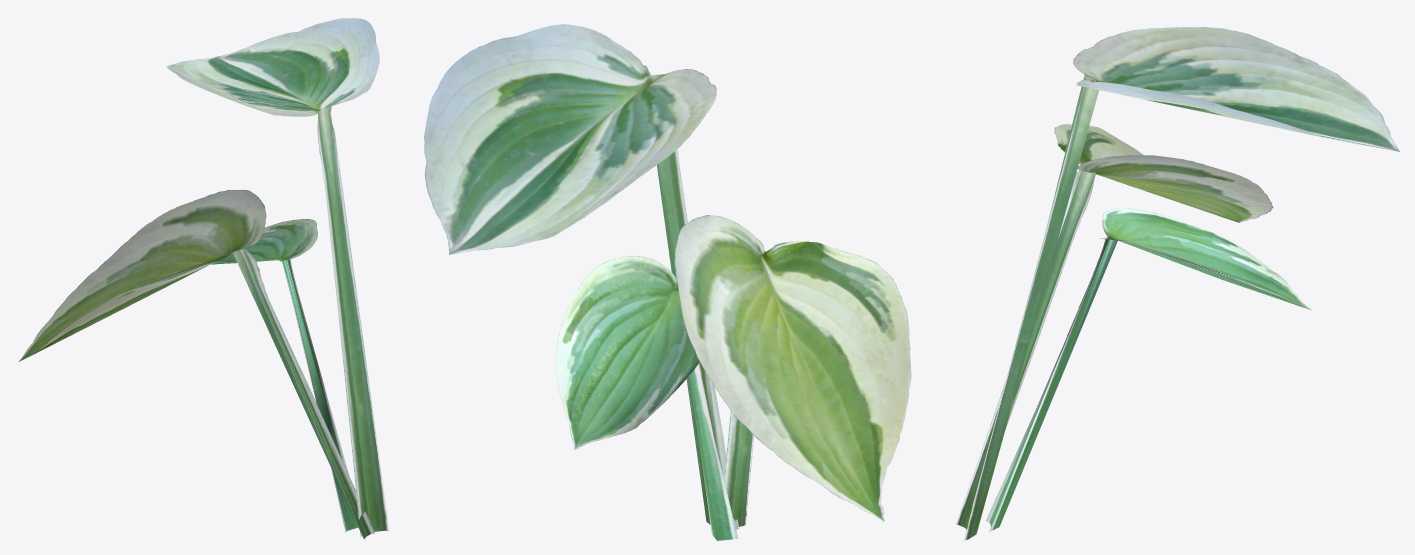
Rendered from plant_small_wg_00_fillerE.fbx.
The picture shows the model from 3 angles, left to right: view 1: azimuth 30°, elevation 25°; view 2: azimuth 150°, elevation 25°; view 3: azimuth 270°, elevation 25°; orthographic projection. The views are drawn at different scales.
Parts seen in each view (by area): view 1: plant_small_wg_00_fillerE; view 2: plant_small_wg_00_fillerE; view 3: plant_small_wg_00_fillerE.
Boxes of the visible parts, bbox=[...] form: plant_small_wg_00_fillerE: bbox=[18, 18, 388, 539]; plant_small_wg_00_fillerE: bbox=[424, 24, 911, 540]; plant_small_wg_00_fillerE: bbox=[956, 27, 1399, 540].
Size of the model in its own units: 31.5 by 36.86 by 29.74.
1 material, 1 textured.
